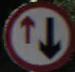Two way: (13, 10, 68, 60)
